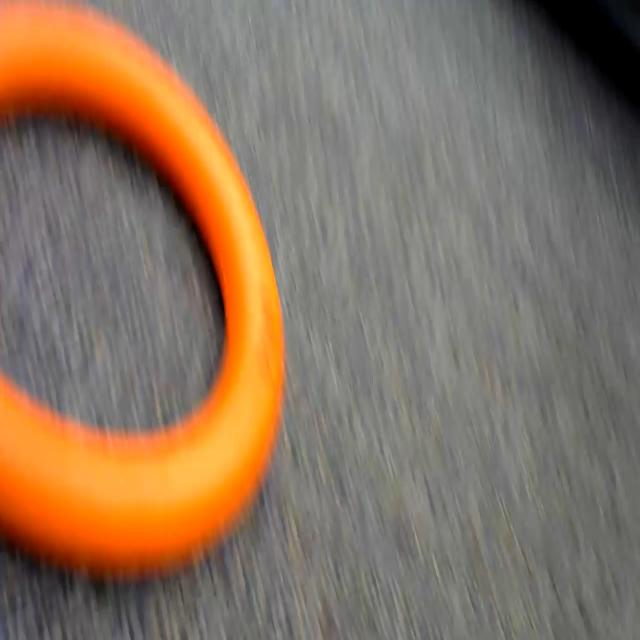note: (0, 0, 294, 594)
